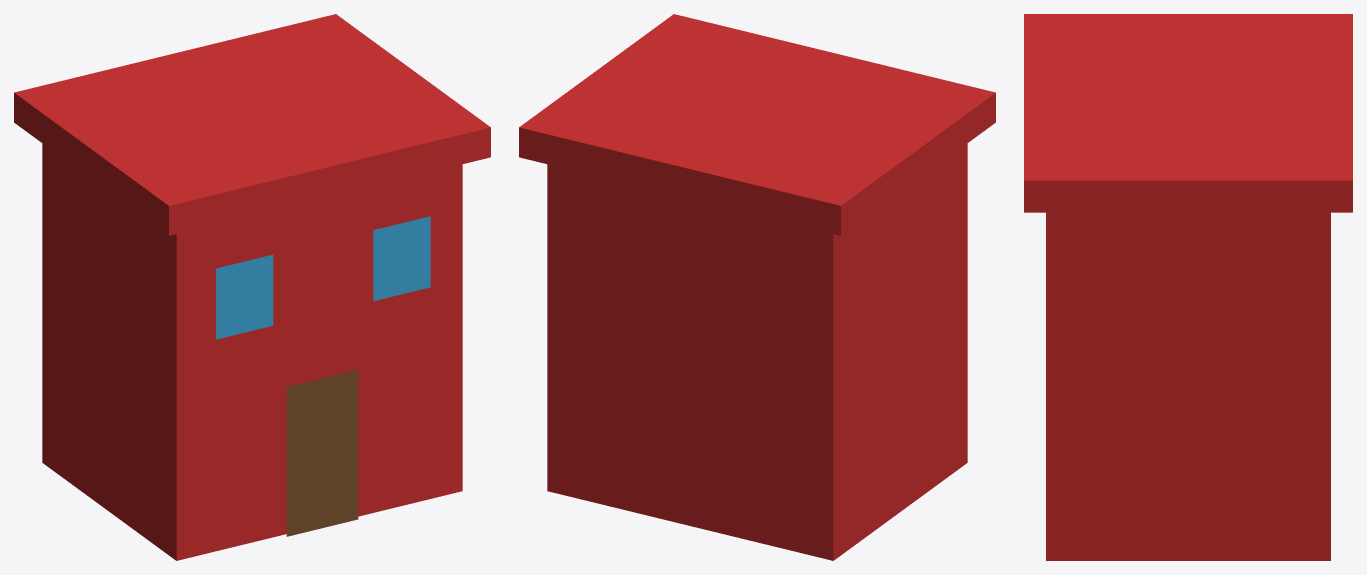
File: Hotel.fbx
3 renders of one model, left to right at view 1: azimuth 30°, elevation 25°; view 2: azimuth 150°, elevation 25°; view 3: azimuth 270°, elevation 25°, orthographic. The views are drawn at different scales.
Parts seen in each view (by area): view 1: Cuerpo, Techo, Puerta, Ventana_0.22, Ventana_-0.22; view 2: Cuerpo, Techo; view 3: Cuerpo, Techo.
Boxes of the visible parts, x1=… form: Cuerpo: x1=42, y1=143, x2=462, y2=560; Techo: x1=14, y1=14, x2=490, y2=235; Puerta: x1=286, y1=370, x2=358, y2=536; Ventana_0.22: x1=373, y1=216, x2=430, y2=301; Ventana_-0.22: x1=216, y1=254, x2=273, y2=339; Cuerpo: x1=547, y1=143, x2=967, y2=560; Techo: x1=519, y1=14, x2=995, y2=235; Cuerpo: x1=1046, y1=212, x2=1330, y2=560; Techo: x1=1024, y1=14, x2=1352, y2=212.
Size of the model in its own units: 0.9 by 0.98 by 0.75.
